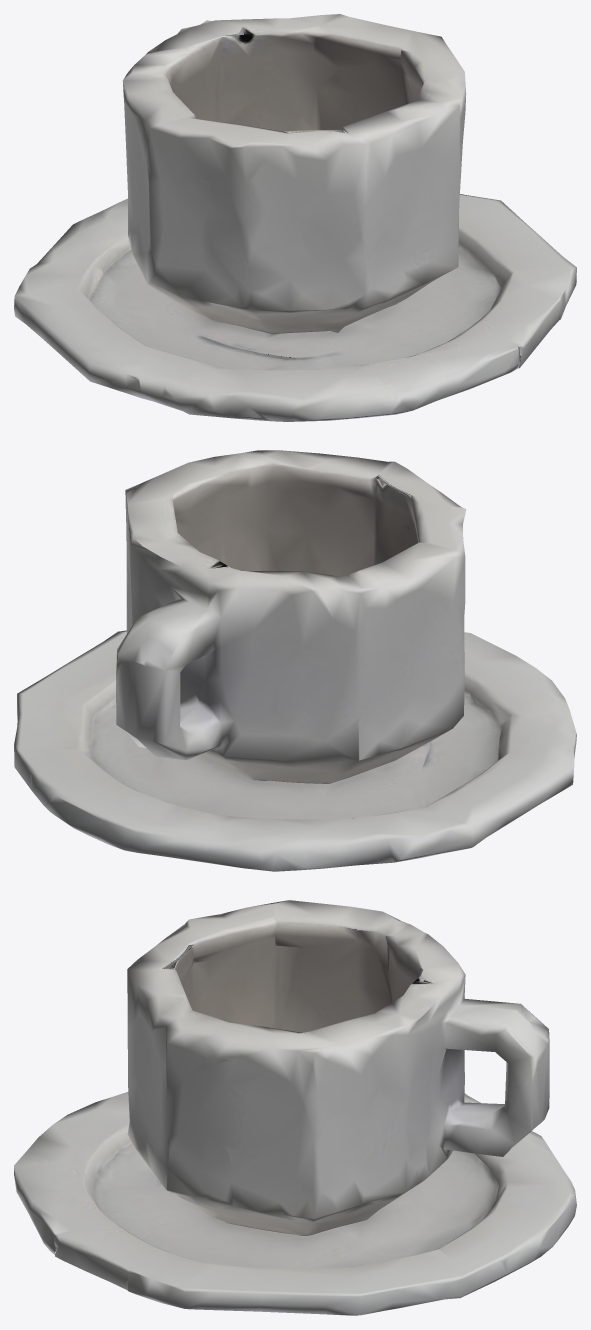
Rendered from cup.glb.
3 renders of one model, top to bottom at view 1: azimuth 30°, elevation 25°; view 2: azimuth 150°, elevation 25°; view 3: azimuth 270°, elevation 25°, orthographic. The views are drawn at different scales.
Parts seen in each view (by area): view 1: tripo_node_30987900-428c-4eb9-9150-b7f0709da168; view 2: tripo_node_30987900-428c-4eb9-9150-b7f0709da168; view 3: tripo_node_30987900-428c-4eb9-9150-b7f0709da168.
Part boxes in pixels (<box>): tripo_node_30987900-428c-4eb9-9150-b7f0709da168: <box>14,14,576,421</box>; tripo_node_30987900-428c-4eb9-9150-b7f0709da168: <box>14,450,576,871</box>; tripo_node_30987900-428c-4eb9-9150-b7f0709da168: <box>14,900,576,1315</box>.
Bounding box in the file's own units: 0.9867 × 0.5308 × 1.
Materials: 1 (1 with a texture image).
